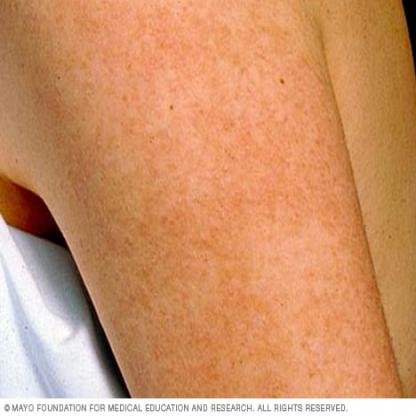Chicken Skin: (8, 2, 404, 396)
